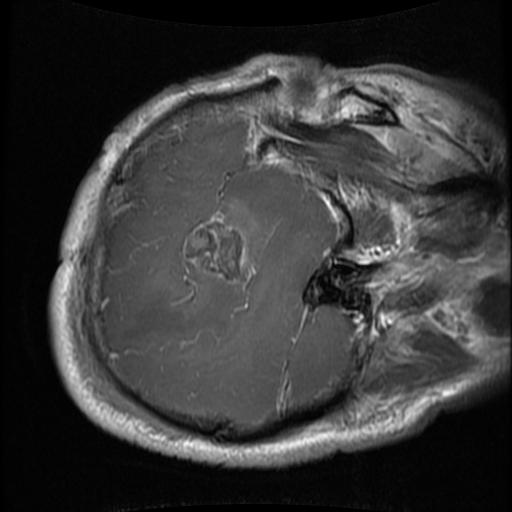glioma: (184, 216, 247, 281)
